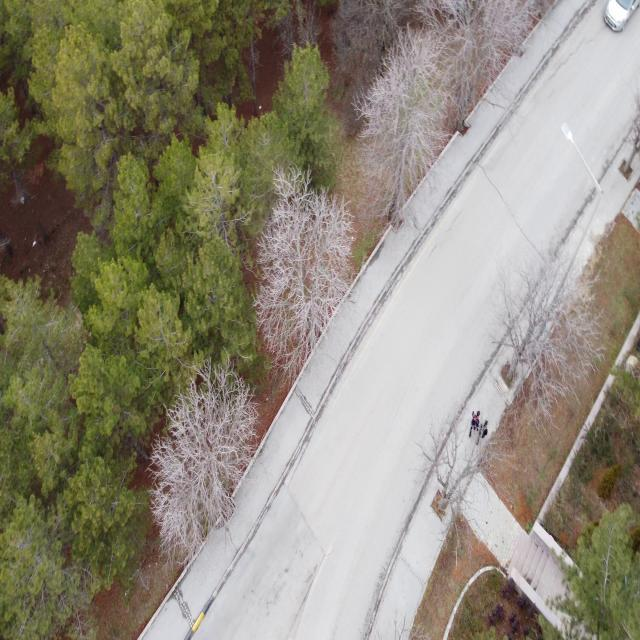vehicle: (604, 1, 640, 32), (478, 421, 488, 444), (470, 411, 480, 434)
